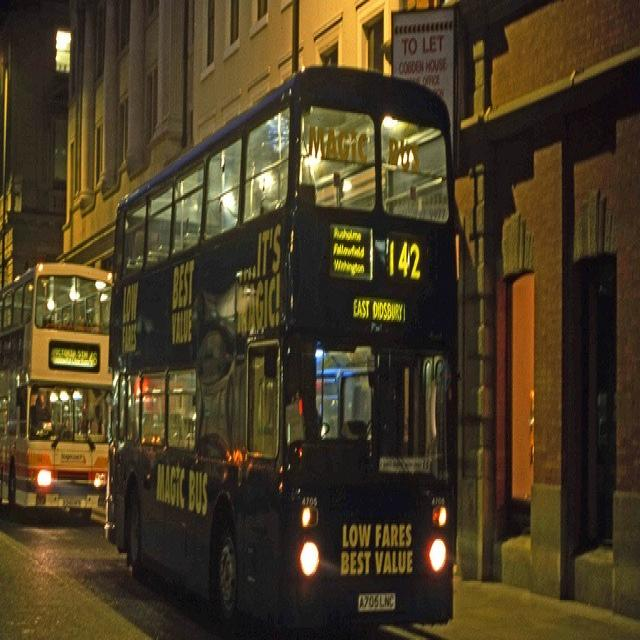Bus: (108, 53, 475, 629), (0, 237, 111, 525)
